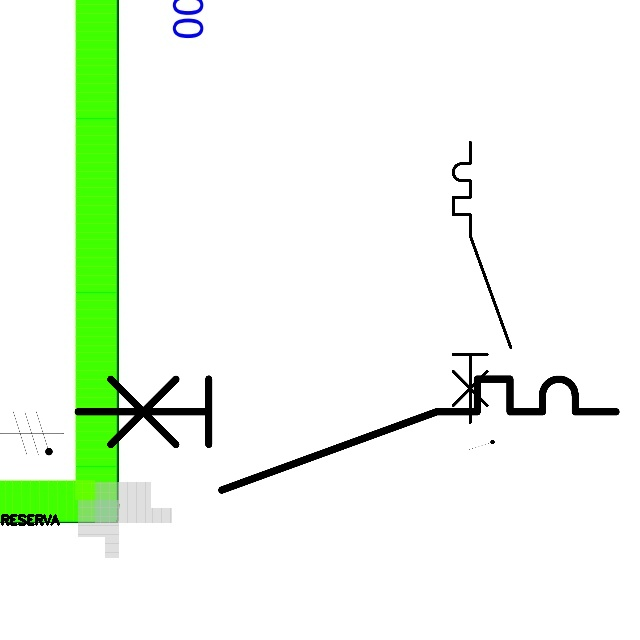interruptor_termomagnetico: (64, 365, 630, 503), (446, 135, 518, 430)
